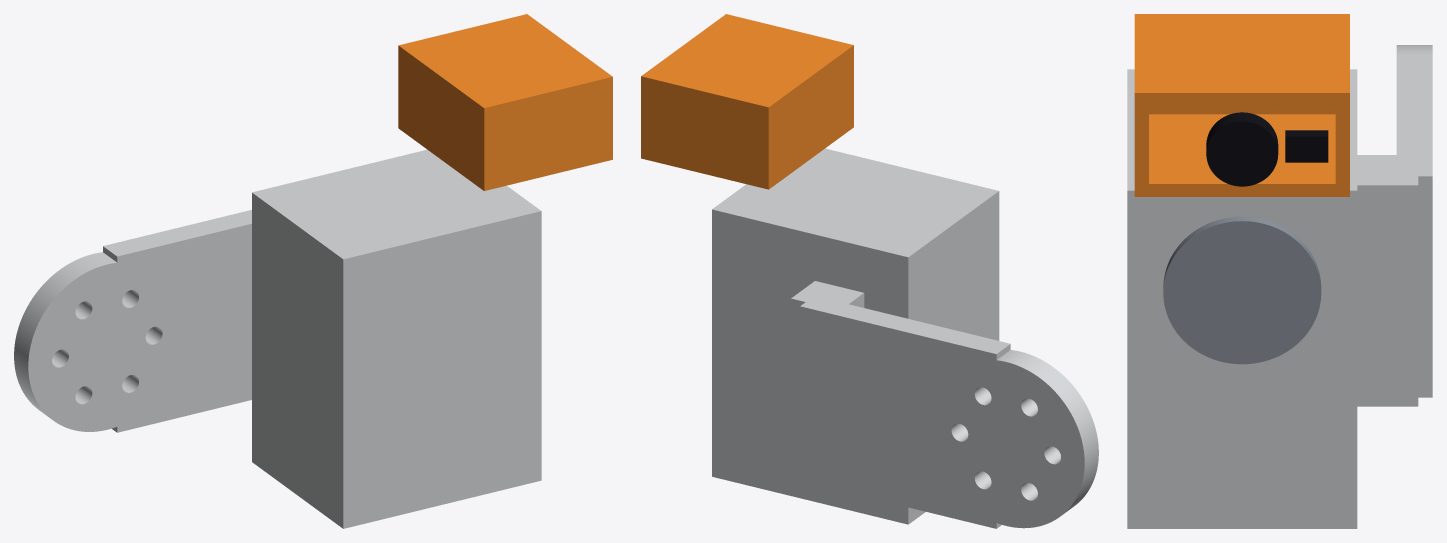
Rendered from wrist.glb.
The picture shows the model from 3 angles, left to right: view 1: azimuth 30°, elevation 25°; view 2: azimuth 150°, elevation 25°; view 3: azimuth 270°, elevation 25°; orthographic projection. The views are drawn at different scales.
Visible parts, largest first — view 1: wrist bracket (printed), camera housing (printed); view 2: wrist bracket (printed), camera housing (printed); view 3: wrist bracket (printed), camera housing (printed), servo horn, camera lens, ToF window.
Boxes of the visible parts, left/top/right/bottom form: wrist bracket (printed): left=14, top=149, right=541, bottom=528; camera housing (printed): left=398, top=14, right=612, bottom=190; wrist bracket (printed): left=712, top=148, right=1098, bottom=528; camera housing (printed): left=641, top=14, right=853, bottom=189; wrist bracket (printed): left=1127, top=45, right=1432, bottom=528; camera housing (printed): left=1134, top=14, right=1349, bottom=196; servo horn: left=1163, top=216, right=1321, bottom=364; camera lens: left=1206, top=112, right=1278, bottom=186; ToF window: left=1285, top=130, right=1328, bottom=162.
Bounding box in the file's own units: 0.0999 × 0.074 × 0.0425.
